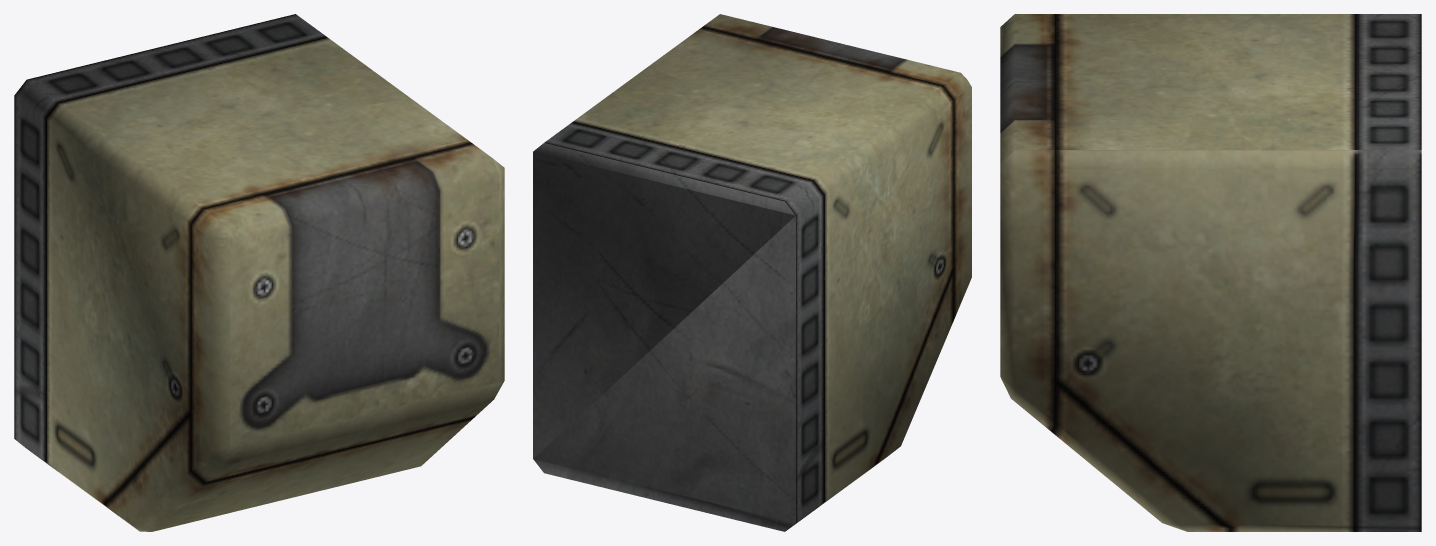
File: living_area_welder_end.dae
3 views of the same model, side by side, from view 1: azimuth 30°, elevation 25°; view 2: azimuth 150°, elevation 25°; view 3: azimuth 270°, elevation 25° (orthographic). The views are drawn at different scales.
Visible parts, largest first — view 1: polySurface1; view 2: polySurface1; view 3: polySurface1.
Part boxes in pixels (x1=…): polySurface1: x1=14, y1=14, x2=504, y2=531; polySurface1: x1=533, y1=14, x2=971, y2=531; polySurface1: x1=1000, y1=14, x2=1421, y2=531.
Bounding box in the file's own units: 0.832 × 1 × 1.
